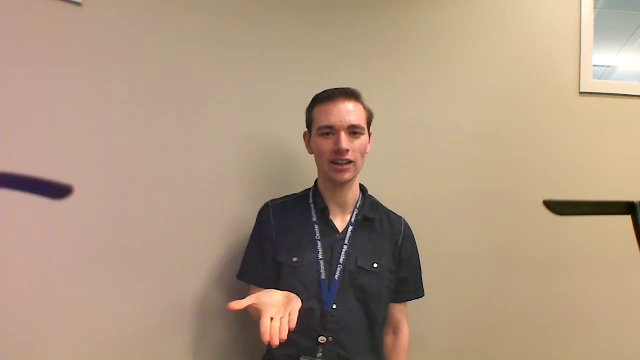land: (212, 279, 308, 352)
